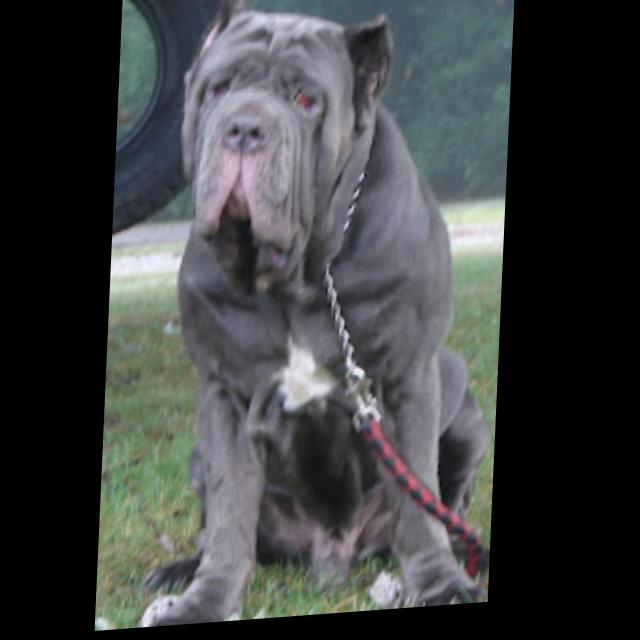mastino_napoletano: (144, 1, 518, 631)
